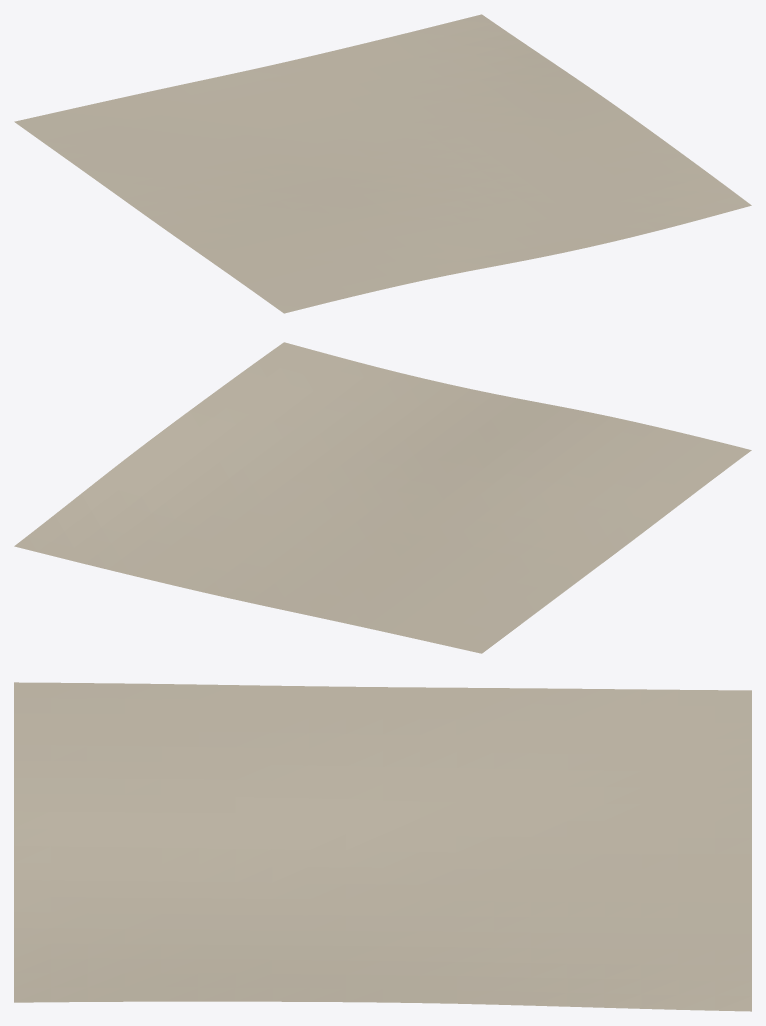
Rendered from bolak_-19_-14.glb.
3 views of the same model, one above another, from view 1: azimuth 30°, elevation 25°; view 2: azimuth 150°, elevation 25°; view 3: azimuth 270°, elevation 25° (orthographic). The views are drawn at different scales.
Parts seen in each view (by area): view 1: Yer_Tuproq-col; view 2: Yer_Tuproq-col; view 3: Yer_Tuproq-col.
Boxes of the visible parts, x1,y1,x2,y2 form: Yer_Tuproq-col: (14,14,751,313); Yer_Tuproq-col: (14,342,751,653); Yer_Tuproq-col: (14,682,751,1011).
Bounding box in the file's own units: 400 × 10.88 × 400.
